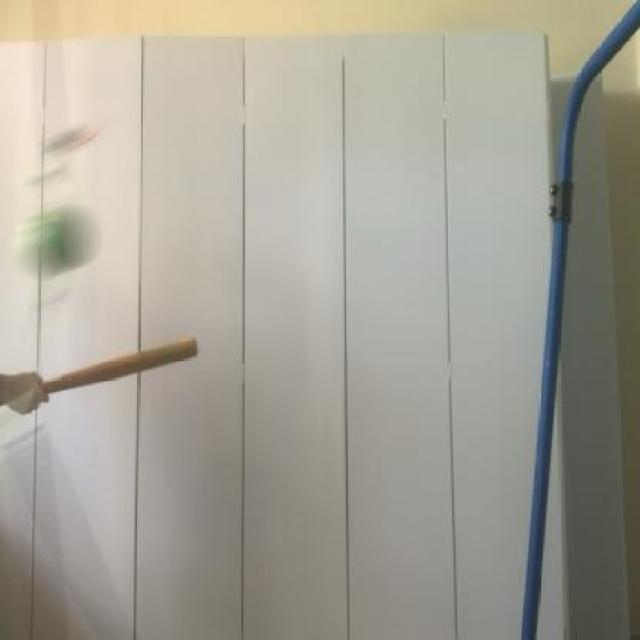baseball: (18, 200, 98, 280)
